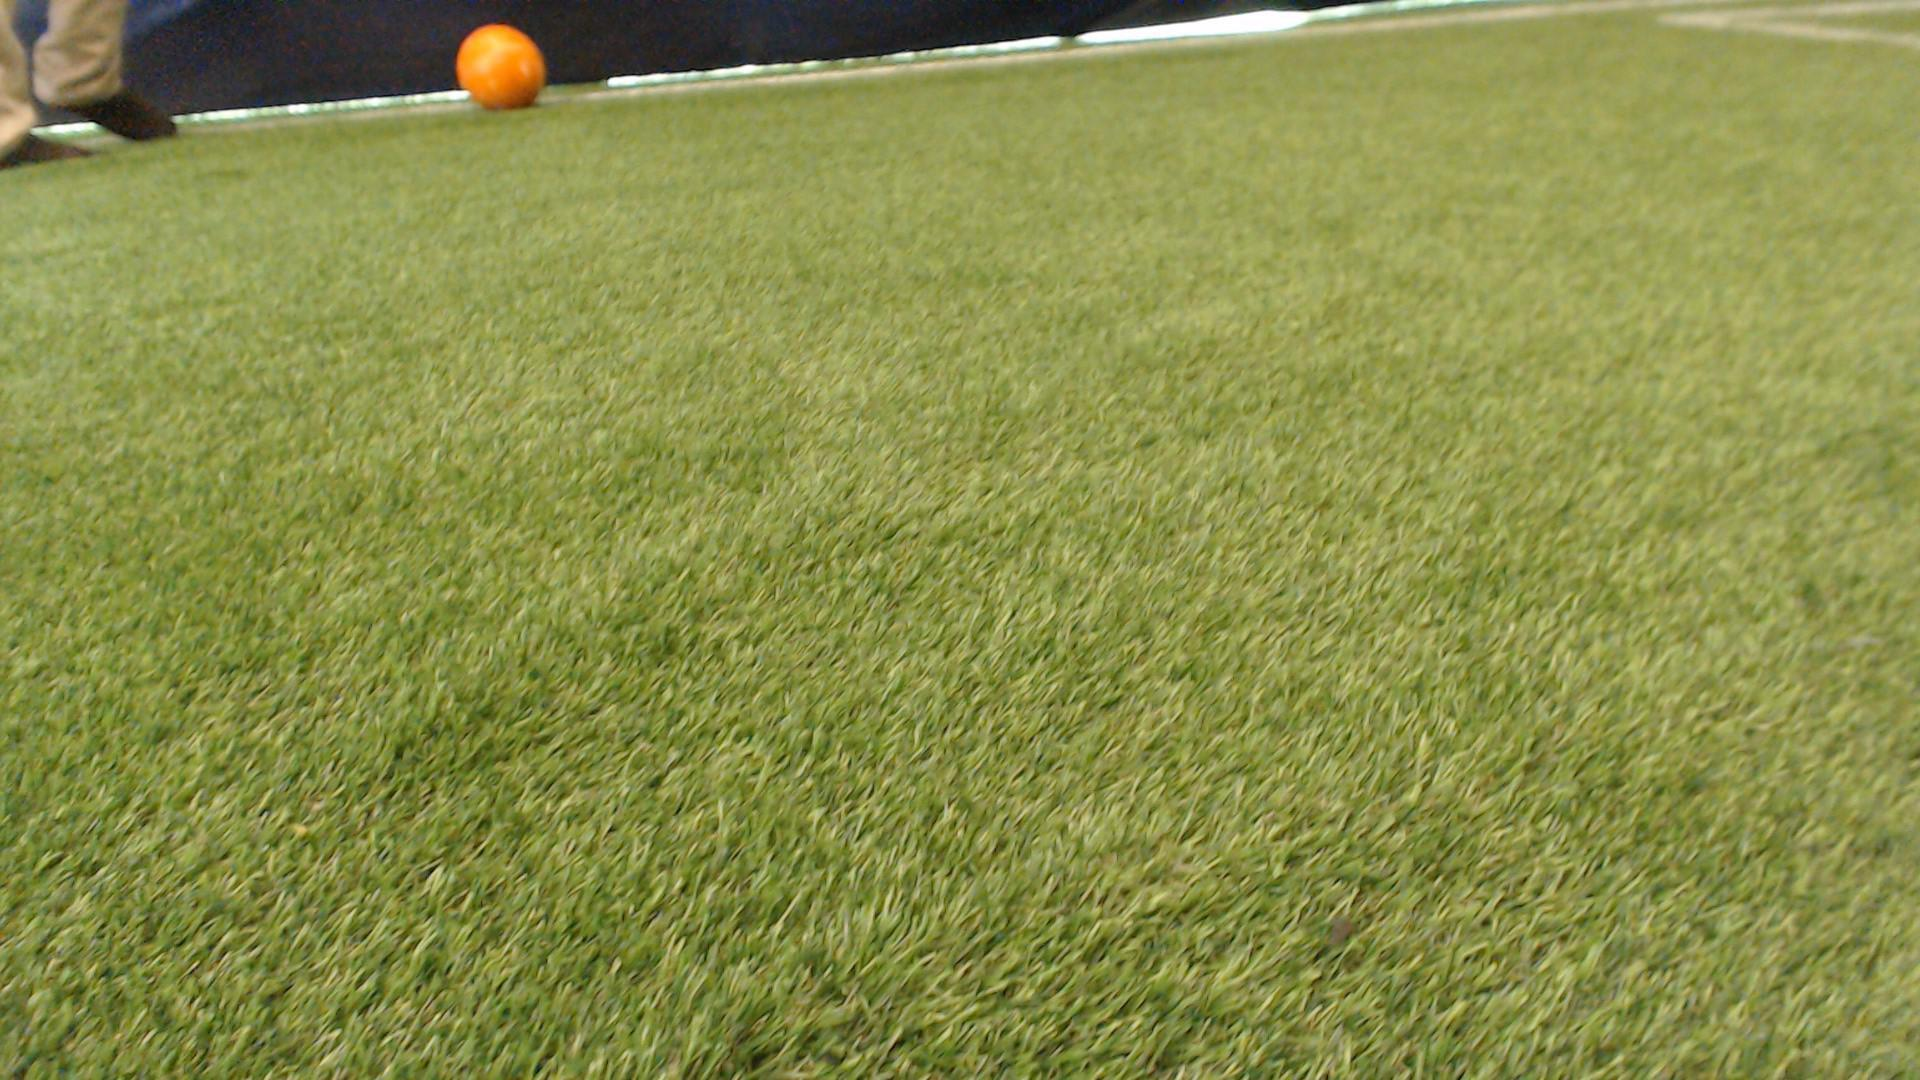bola: (448, 9, 563, 126)
